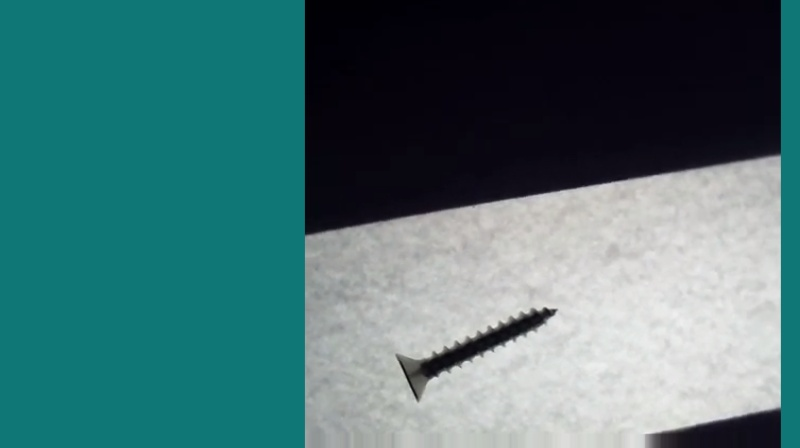S001: (387, 303, 561, 407)
